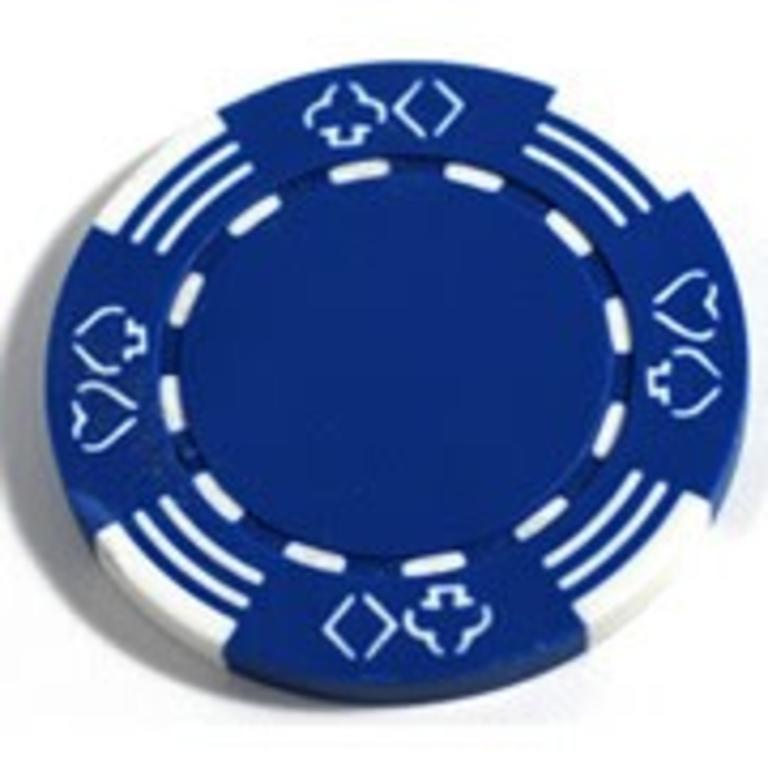chip-blue: (44, 62, 748, 701)
